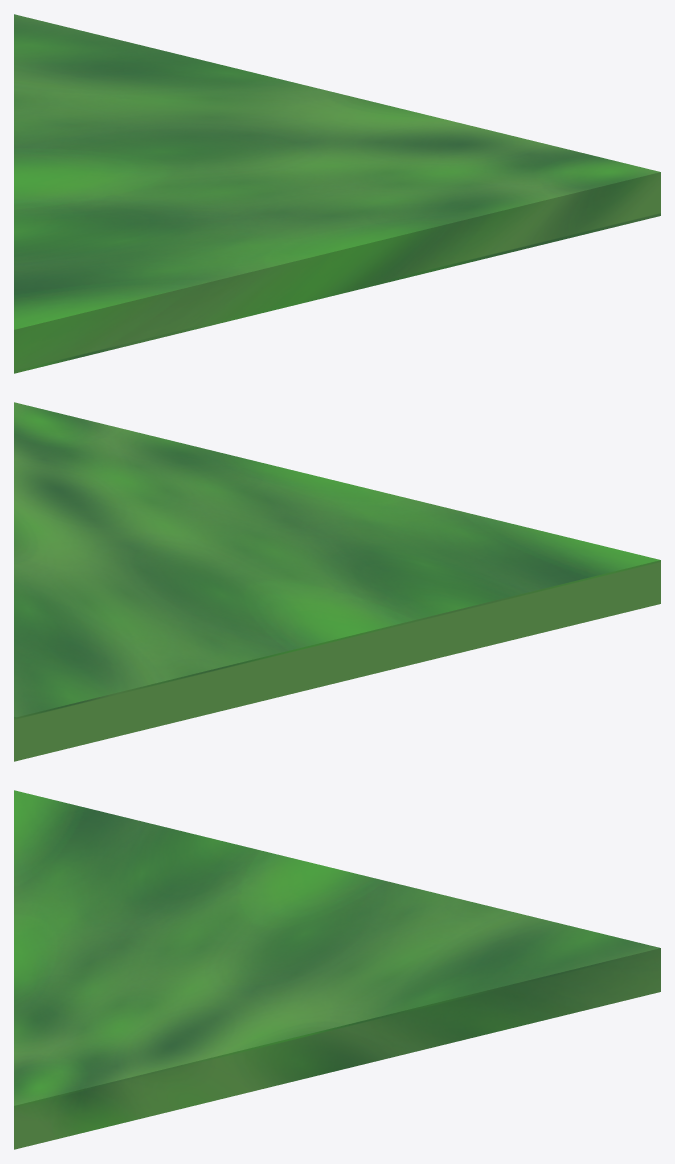
Rendered from plains.glb.
3 views of the same model, one above another, from view 1: azimuth 30°, elevation 25°; view 2: azimuth 150°, elevation 25°; view 3: azimuth 270°, elevation 25° (orthographic).
Parts seen in each view (by area): view 1: Circle; view 2: Circle; view 3: Circle.
Part boxes in pixels (bbox=[...]): Circle: bbox=[14, 14, 660, 373]; Circle: bbox=[14, 402, 660, 761]; Circle: bbox=[14, 790, 660, 1149].
Bounding box in the file's own units: 1.73 × 0.1122 × 1.5.
Materials: 1 (1 with a texture image).
